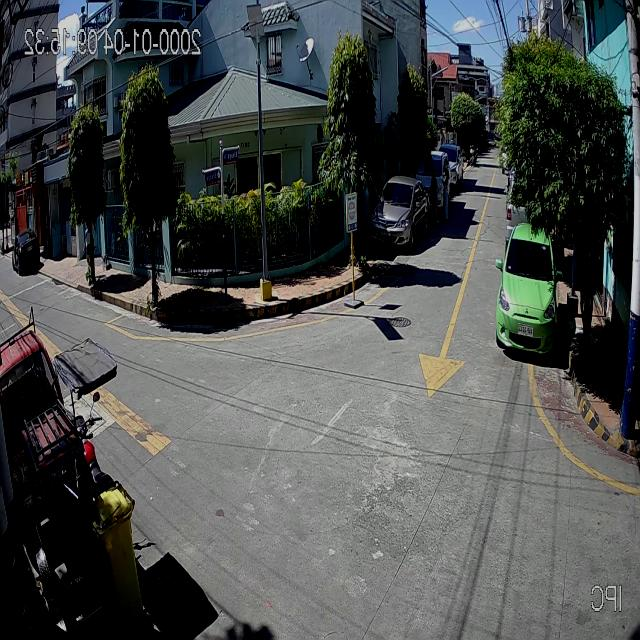standing: (439, 166, 452, 221), (429, 167, 440, 224)
